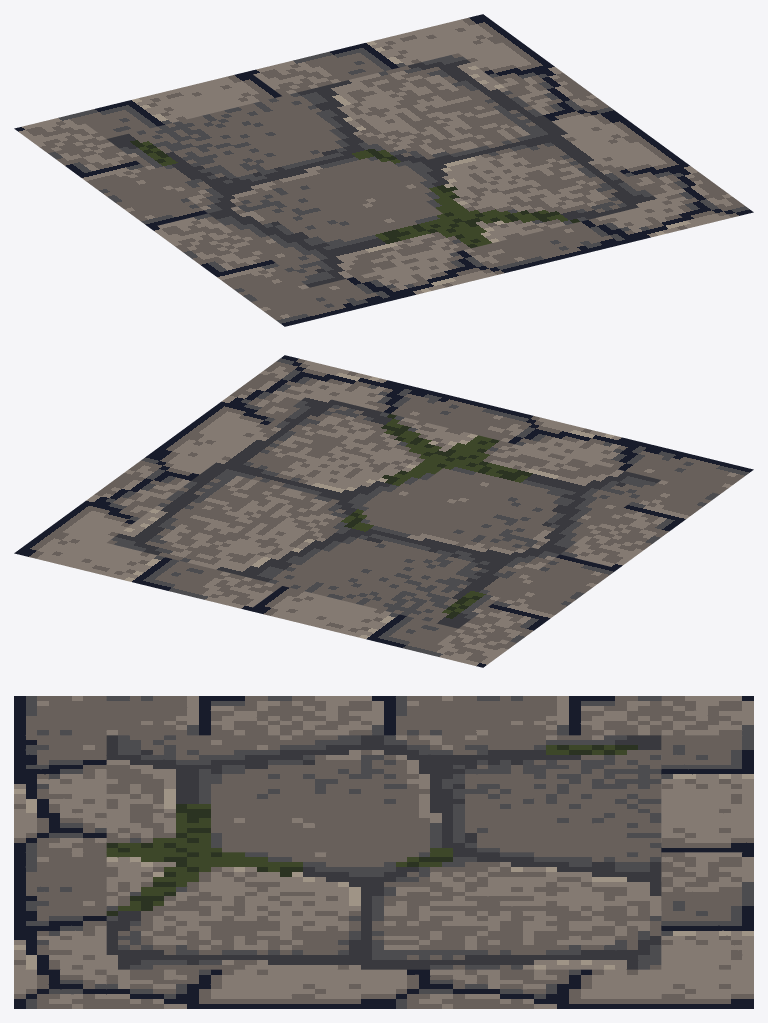
Rendered from dgn.floor__border.glb.
3 views of the same model, one above another, from view 1: azimuth 30°, elevation 25°; view 2: azimuth 150°, elevation 25°; view 3: azimuth 270°, elevation 25° (orthographic). The views are drawn at different scales.
Visible parts, largest first — view 1: kit_shell_floor; view 2: kit_shell_floor; view 3: kit_shell_floor.
Boxes of the visible parts, x1=… form: kit_shell_floor: x1=14, y1=14, x2=753, y2=326; kit_shell_floor: x1=14, y1=355, x2=753, y2=667; kit_shell_floor: x1=14, y1=696, x2=753, y2=1008.
Bounding box in the file's own units: 4 × 0 × 4.
Materials: 2 (2 with a texture image).
